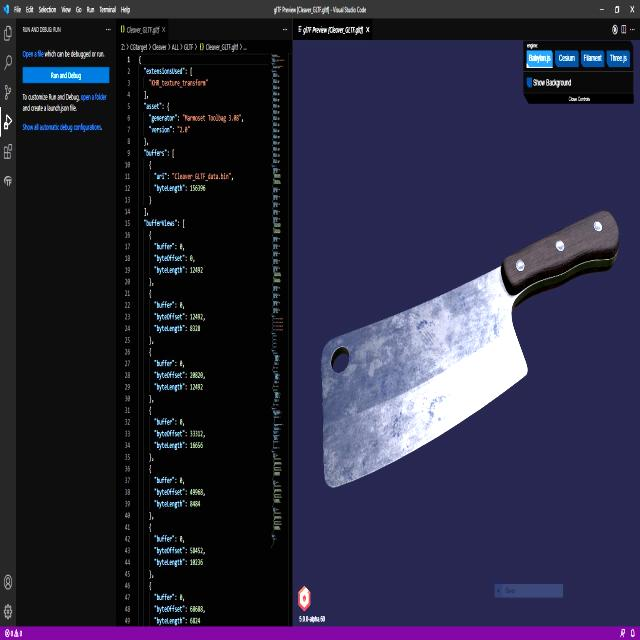cleaver: (320, 201, 626, 497)
